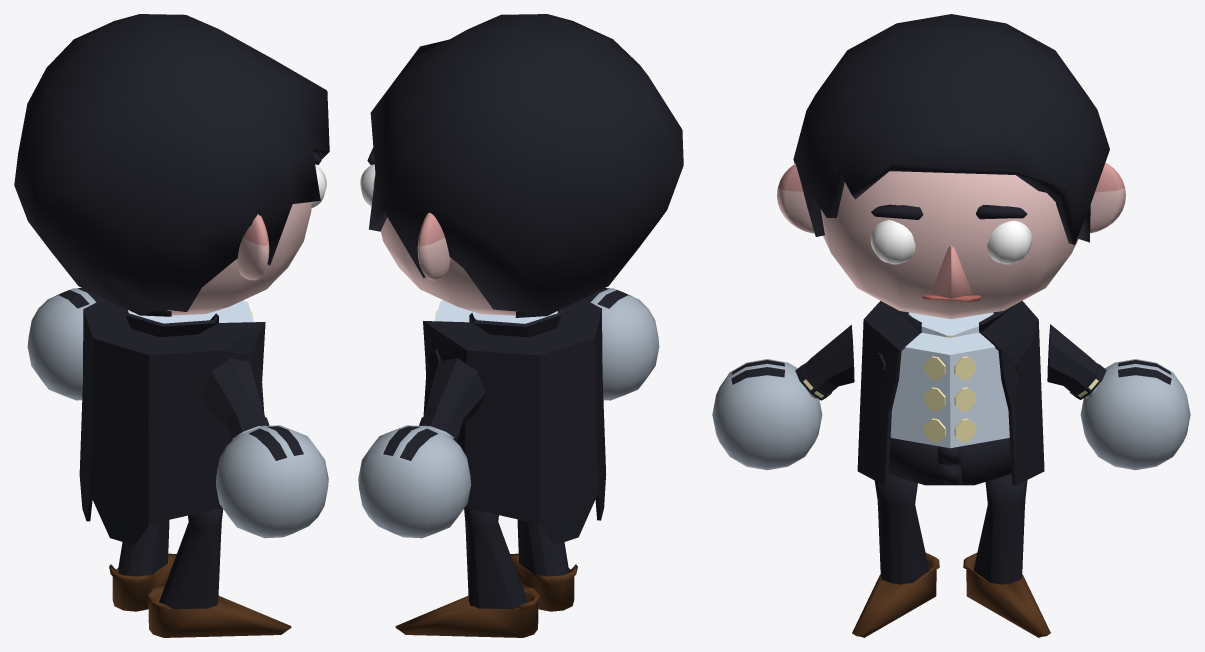
Rendered from Buttler_v1.glb.
3 renders of one model, left to right at view 1: azimuth 30°, elevation 25°; view 2: azimuth 150°, elevation 25°; view 3: azimuth 270°, elevation 25°, orthographic. The views are drawn at different scales.
Visible parts, largest first — view 1: Hair.005, Buttler_v1-col, right_arm-col.004, right_leg-col.004, head-col.004, left_arm-col.004, left_leg-col.004; view 2: Hair.005, Buttler_v1-col, left_arm-col.004, left_leg-col.004, right_arm-col.004, head-col.004, right_leg-col.004; view 3: Hair.005, Buttler_v1-col, head-col.004, left_arm-col.004, right_arm-col.004, right_leg-col.004, left_leg-col.004, Eyes.004.
Boxes of the visible parts, x1=… form: Hair.005: x1=14, y1=14, x2=329, y2=316; Buttler_v1-col: x1=79, y1=298, x2=265, y2=545; right_arm-col.004: x1=201, y1=358, x2=328, y2=538; right_leg-col.004: x1=146, y1=508, x2=291, y2=637; head-col.004: x1=167, y1=202, x2=311, y2=315; left_arm-col.004: x1=27, y1=288, x2=103, y2=400; left_leg-col.004: x1=109, y1=519, x2=176, y2=611; Hair.005: x1=368, y1=14, x2=683, y2=317; Buttler_v1-col: x1=423, y1=299, x2=606, y2=544; left_arm-col.004: x1=358, y1=358, x2=485, y2=538; left_leg-col.004: x1=395, y1=507, x2=540, y2=637; right_arm-col.004: x1=583, y1=288, x2=659, y2=400; head-col.004: x1=373, y1=175, x2=516, y2=315; right_leg-col.004: x1=510, y1=519, x2=577, y2=611; Hair.005: x1=793, y1=14, x2=1109, y2=244; Buttler_v1-col: x1=857, y1=301, x2=1044, y2=485; head-col.004: x1=777, y1=162, x2=1125, y2=319; left_arm-col.004: x1=1047, y1=324, x2=1190, y2=470; right_arm-col.004: x1=712, y1=325, x2=854, y2=470; right_leg-col.004: x1=852, y1=474, x2=939, y2=637; left_leg-col.004: x1=963, y1=474, x2=1050, y2=637; Eyes.004: x1=870, y1=220, x2=1032, y2=264.
Bounding box in the file's own units: 1.01 × 1.96 × 1.47.
